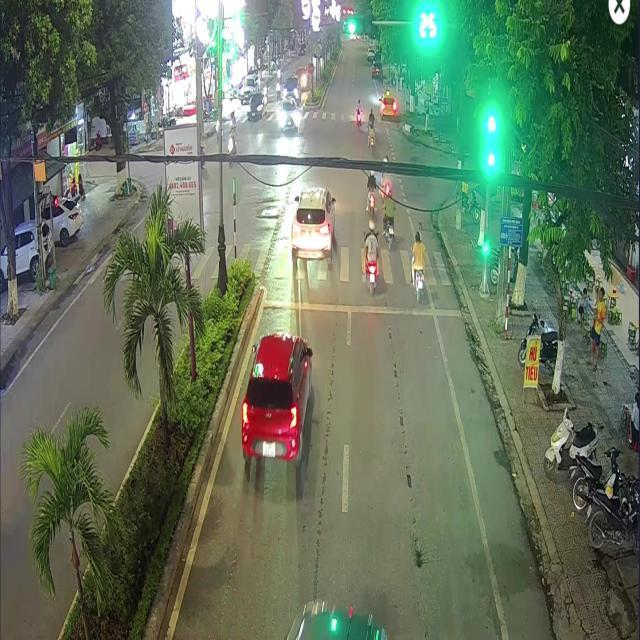car: (241, 332, 311, 462), (285, 600, 386, 638), (290, 187, 333, 268), (379, 90, 397, 117)
green_light: (346, 15, 373, 36), (486, 132, 495, 168), (483, 233, 487, 251)
motobike: (364, 259, 377, 292), (383, 217, 394, 250), (413, 269, 424, 300), (365, 192, 375, 217), (367, 133, 375, 153), (355, 114, 361, 128)
stop_line: (263, 299, 460, 315)
